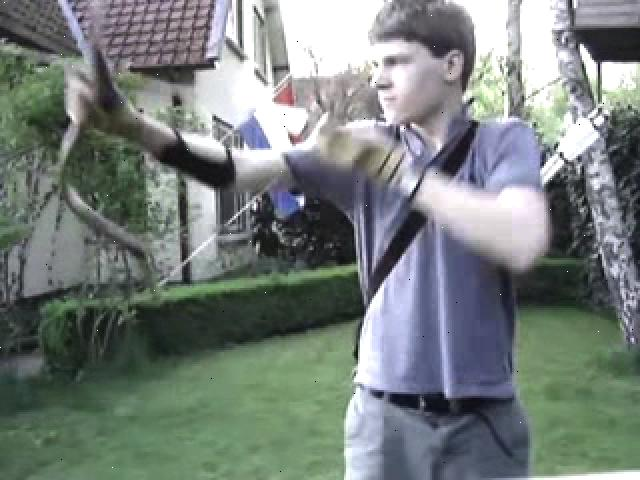P: (56, 2, 555, 480)
